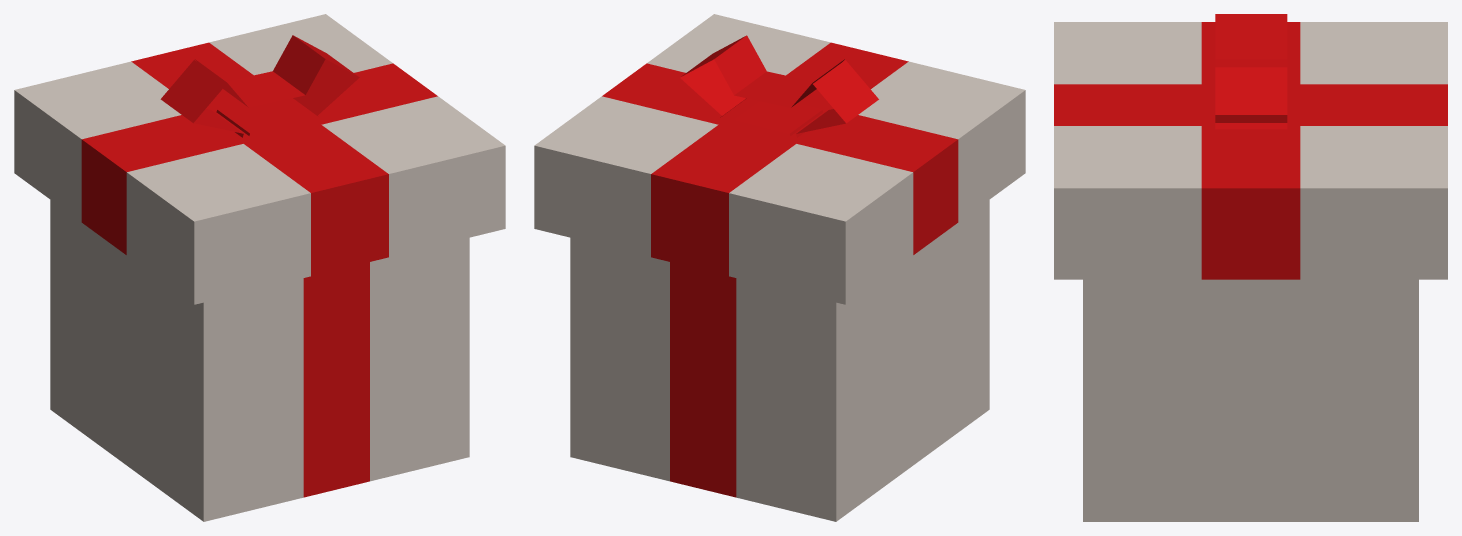
Rendered from gift_with_bow_coloruv.fbx.
3 views of the same model, side by side, from view 1: azimuth 30°, elevation 25°; view 2: azimuth 150°, elevation 25°; view 3: azimuth 270°, elevation 25° (orthographic). The views are drawn at different scales.
Visible parts, largest first — view 1: Cube; view 2: Cube; view 3: Cube.
Part boxes in pixels (x1,y1,x2,y2): Cube: (14,14,505,521); Cube: (534,14,1025,521); Cube: (1054,14,1447,521).
Bounding box in the file's own units: 234 × 270 × 234.
